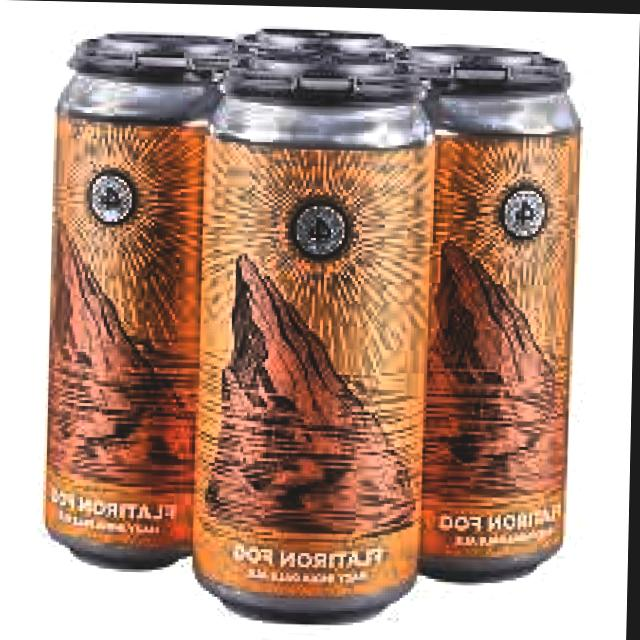can: (183, 45, 448, 635), (384, 28, 590, 594), (42, 20, 238, 596), (224, 20, 417, 70)
